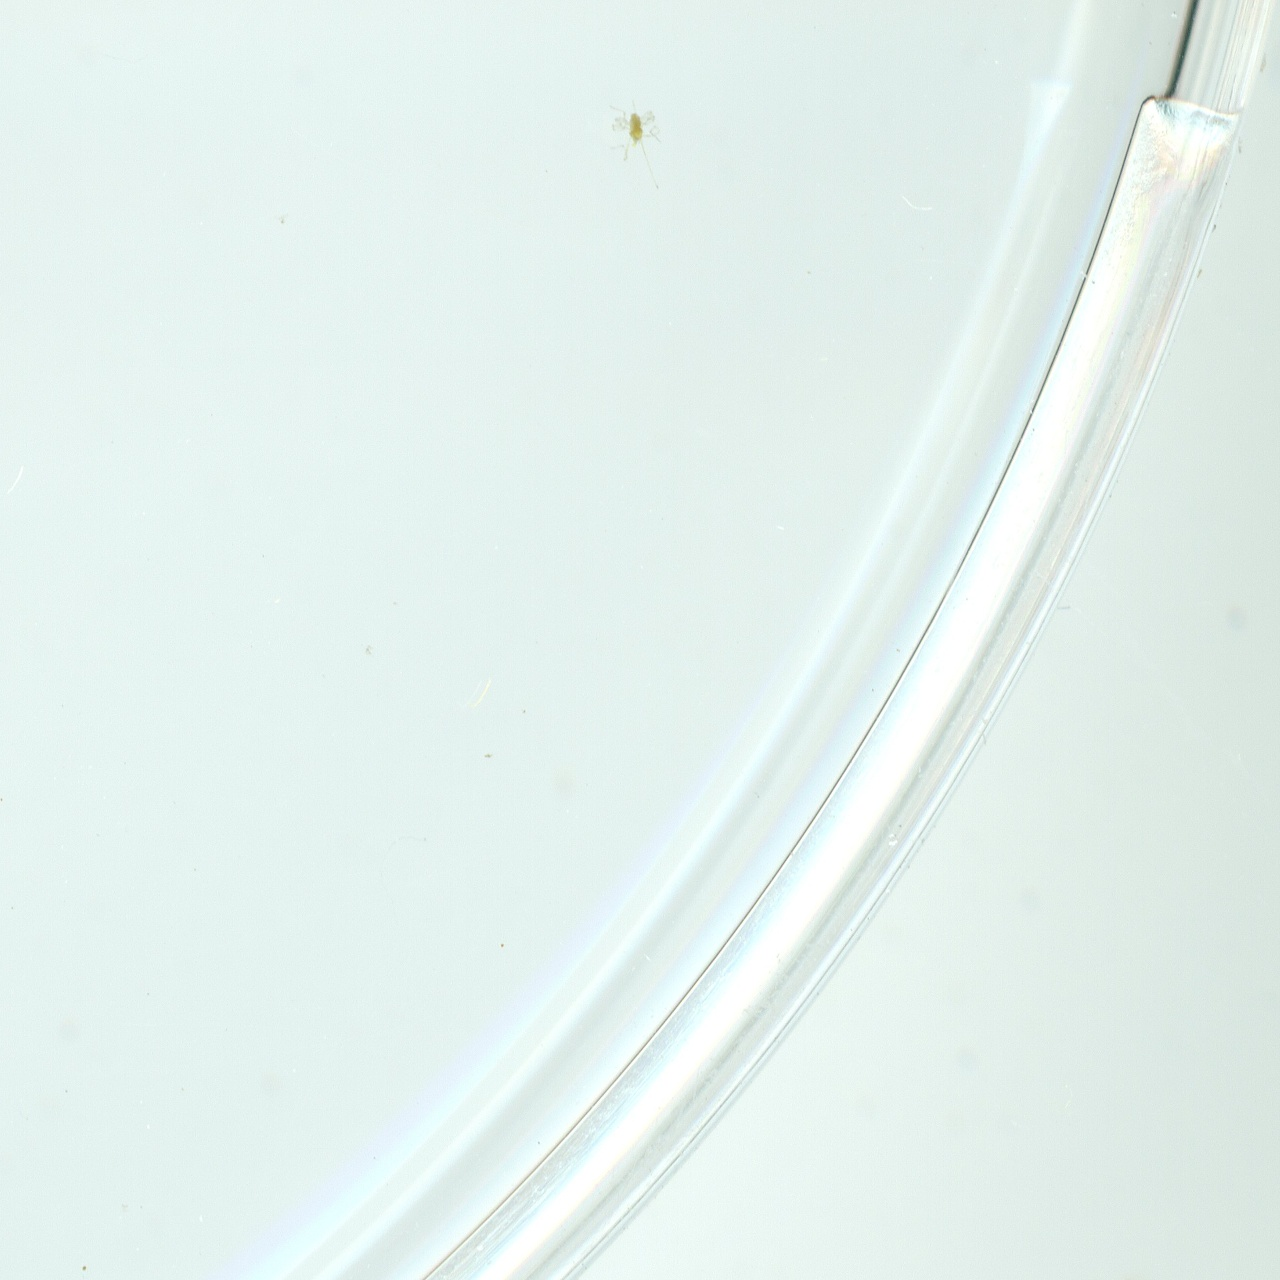arthropod: (605, 90, 669, 172)
